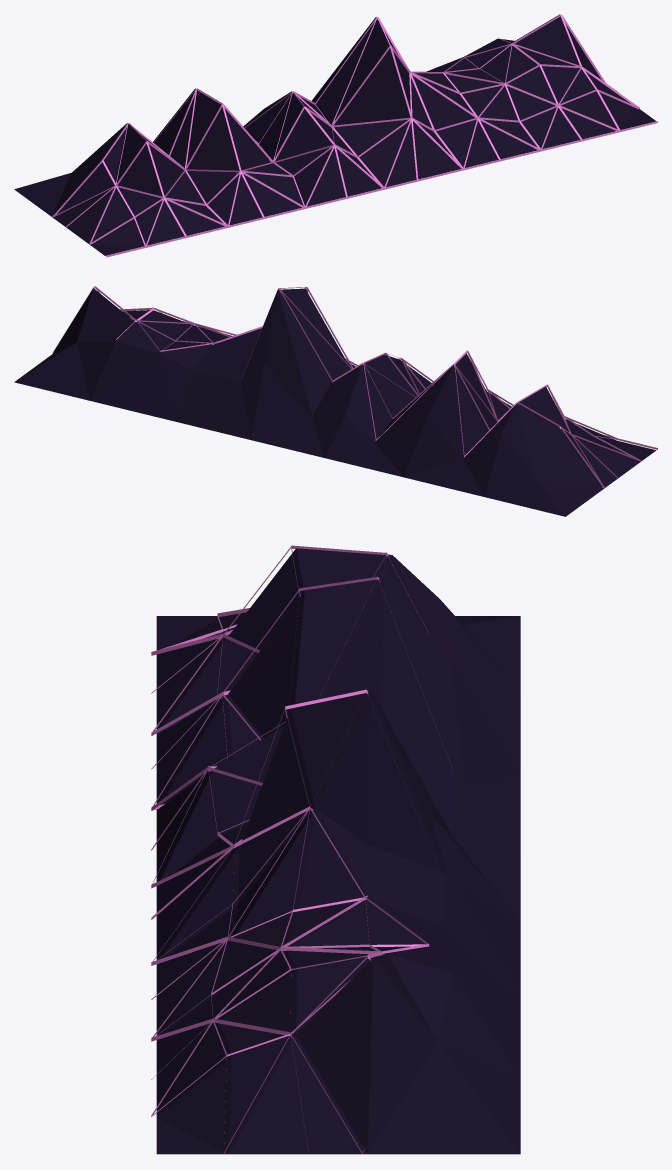
The model's file is mountain_c.glb.
3 views of the same model, one above another, from view 1: azimuth 30°, elevation 25°; view 2: azimuth 150°, elevation 25°; view 3: azimuth 270°, elevation 25° (orthographic). The views are drawn at different scales.
Visible parts, largest first — view 1: root; view 2: root; view 3: root.
Boxes of the visible parts, x1,y1,x2,y2 form: root: (14, 14, 657, 257); root: (14, 286, 657, 516); root: (151, 545, 520, 1154).
Size of the model in its own units: 702 by 148 by 203.
